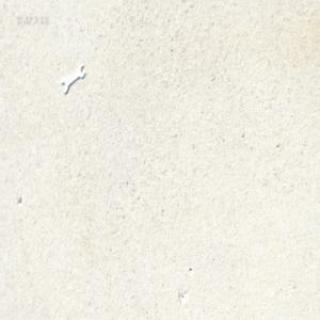Wrenchtrack_idkeyframe: (60, 60, 84, 94)
